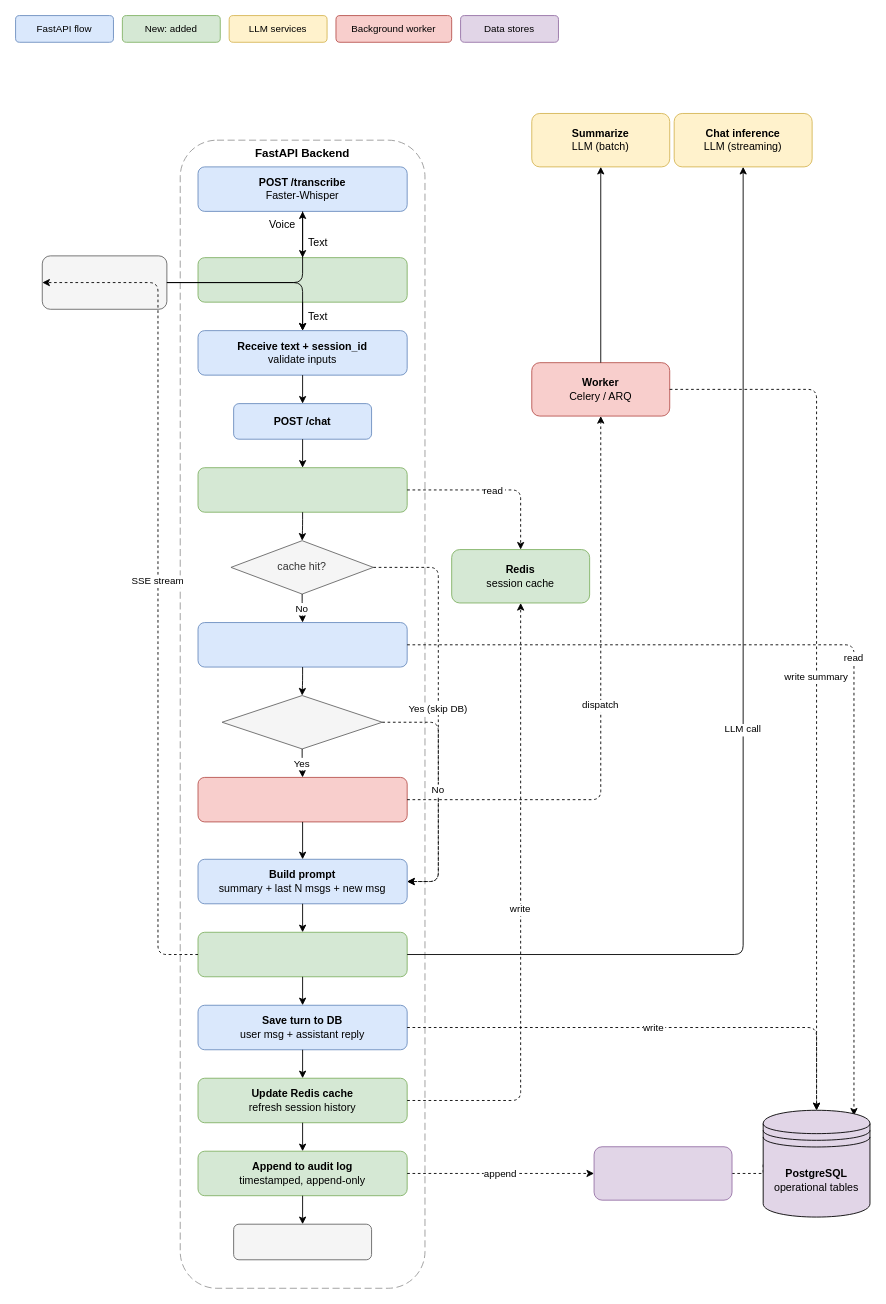
Image size: 886x1304. Some labels were removed from this diagram. Each missing label, with the centre of its shape:
"Audit table append-only, partitioned" goes at [662,1173].
"Auth / token validation JWT + session check" goes at [302,279].
"Check Redis cache session history hot path" goes at [302,489].
"Enqueue summarize job Celery / ARQ — async" goes at [302,799].
"Fetch history from DB summary + raw messages" goes at [302,644].
"Frontend Mobile / Web UI" goes at [104,282].
"msgs > threshold?" goes at [301,722].
"Response to client" goes at [302,1241].
"Stream LLM response (SSE) chunked to client in real-time" goes at [302,954].
